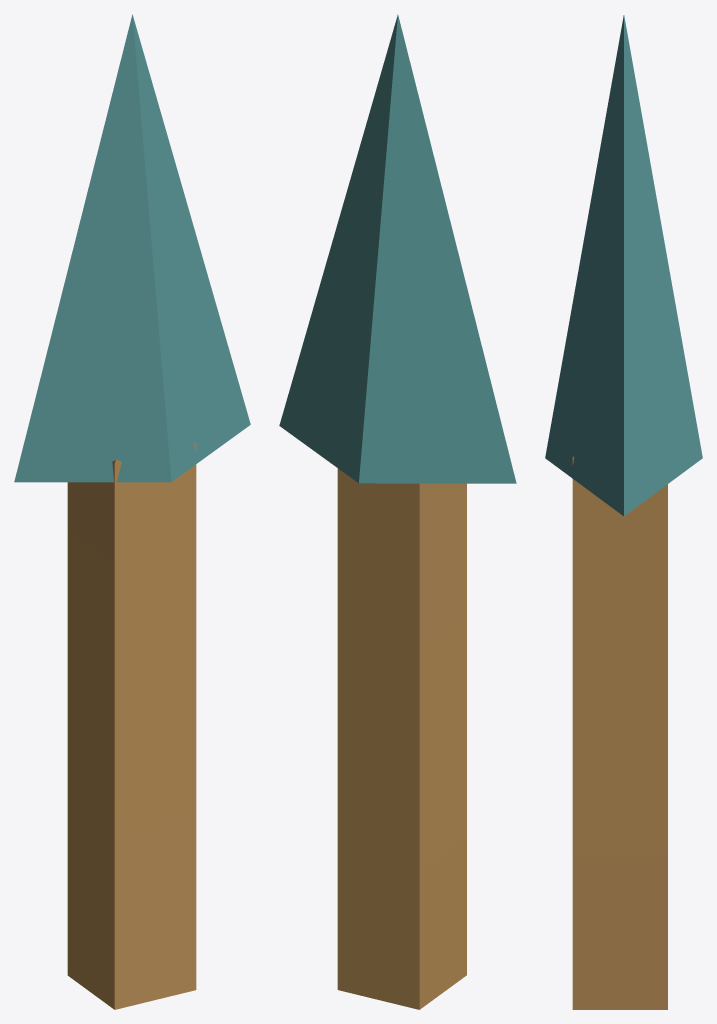
File: DaggerForTexturing.fbx
3 renders of one model, left to right at view 1: azimuth 30°, elevation 25°; view 2: azimuth 150°, elevation 25°; view 3: azimuth 270°, elevation 25°, orthographic.
Parts seen in each view (by area): view 1: spear1; view 2: spear1; view 3: spear1.
Boxes of the visible parts, x1,y1,x2,y2 form: spear1: (14, 14, 250, 1009); spear1: (279, 15, 516, 1009); spear1: (545, 15, 702, 1009).
Bounding box in the file's own units: 29.22 × 114 × 16.7.
